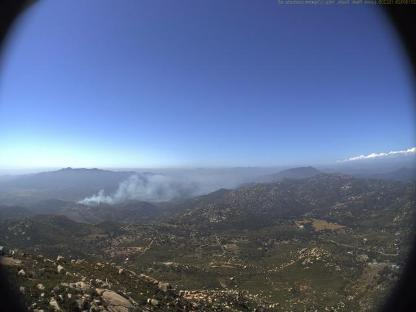smoke: (79, 168, 218, 204)
